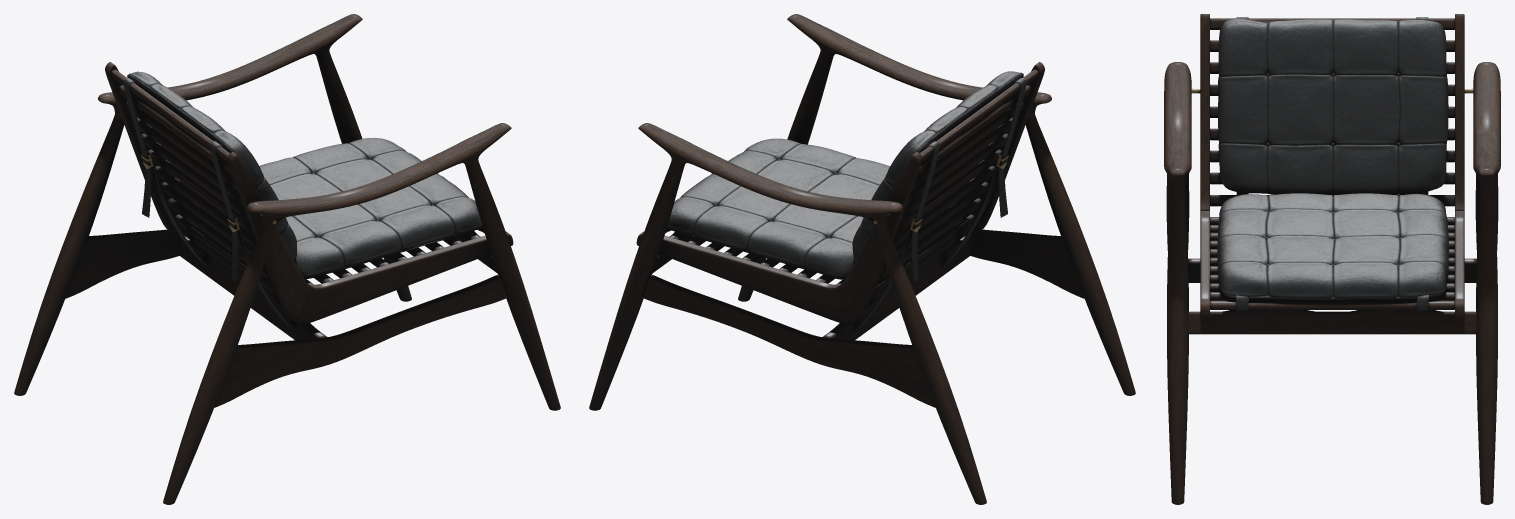
The model's file is chairs-portfolio_04-v1.glb.
3 views of the same model, side by side, from view 1: azimuth 30°, elevation 25°; view 2: azimuth 150°, elevation 25°; view 3: azimuth 270°, elevation 25° (orthographic). The views are drawn at different scales.
Visible parts, largest first — view 1: 04; view 2: 04; view 3: 04.
Boxes of the visible parts, x1,y1,x2,y2 form: 04: (14,14,560,504); 04: (589,14,1135,504); 04: (1164,14,1500,504).
Bounding box in the file's own units: 0.9756 × 0.7561 × 0.6918.
1 material, 1 textured.
